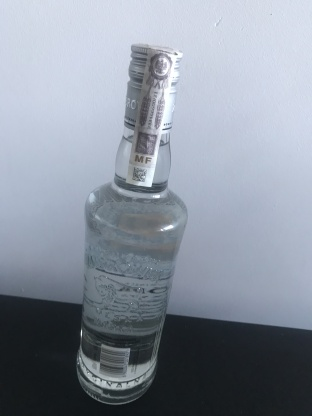nakretka: (121, 37, 186, 137)
